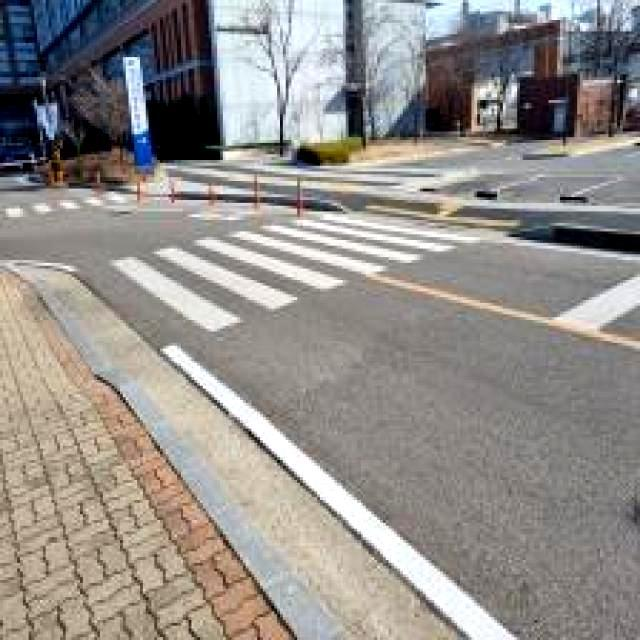crosswalk: (84, 204, 478, 356)
